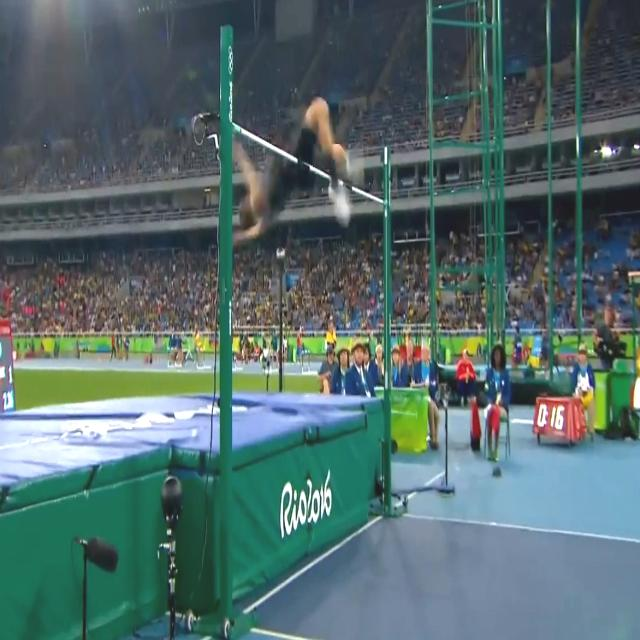jump: (233, 95, 354, 244)
